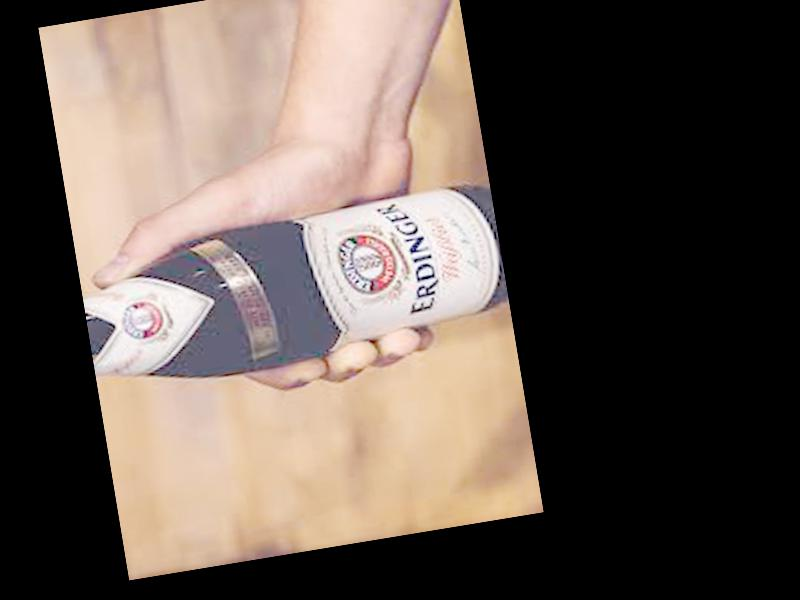Beer: (79, 178, 513, 396)
